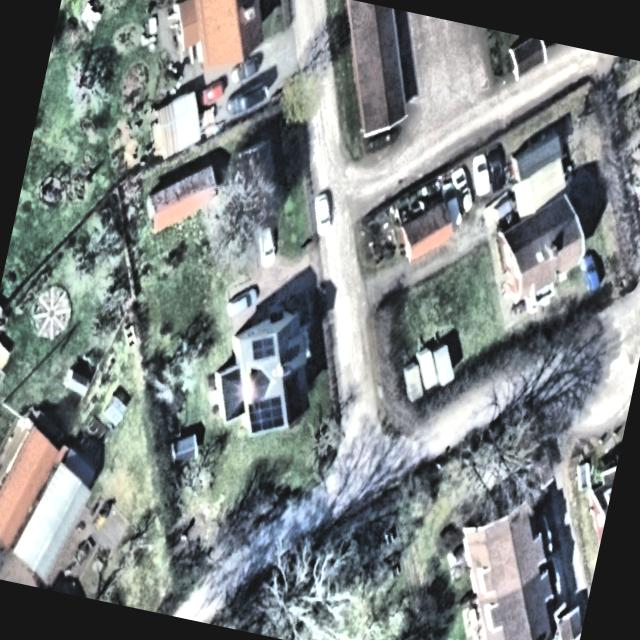roof_pv: (237, 388, 290, 442), (245, 328, 282, 369)
